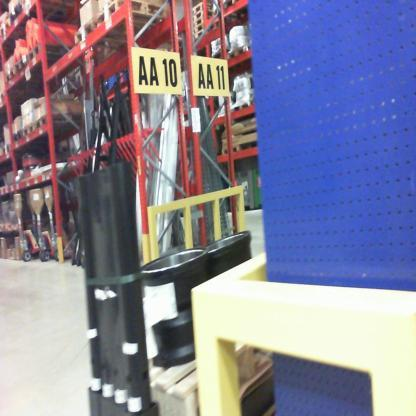pallets: (71, 0, 166, 49), (3, 41, 63, 88), (12, 108, 78, 146)
